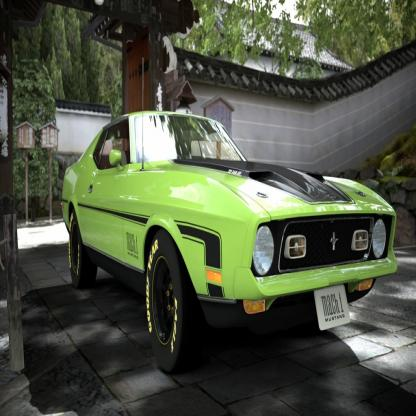Car: (63, 59, 399, 374)
